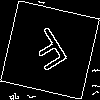F: (25, 25, 76, 81)
